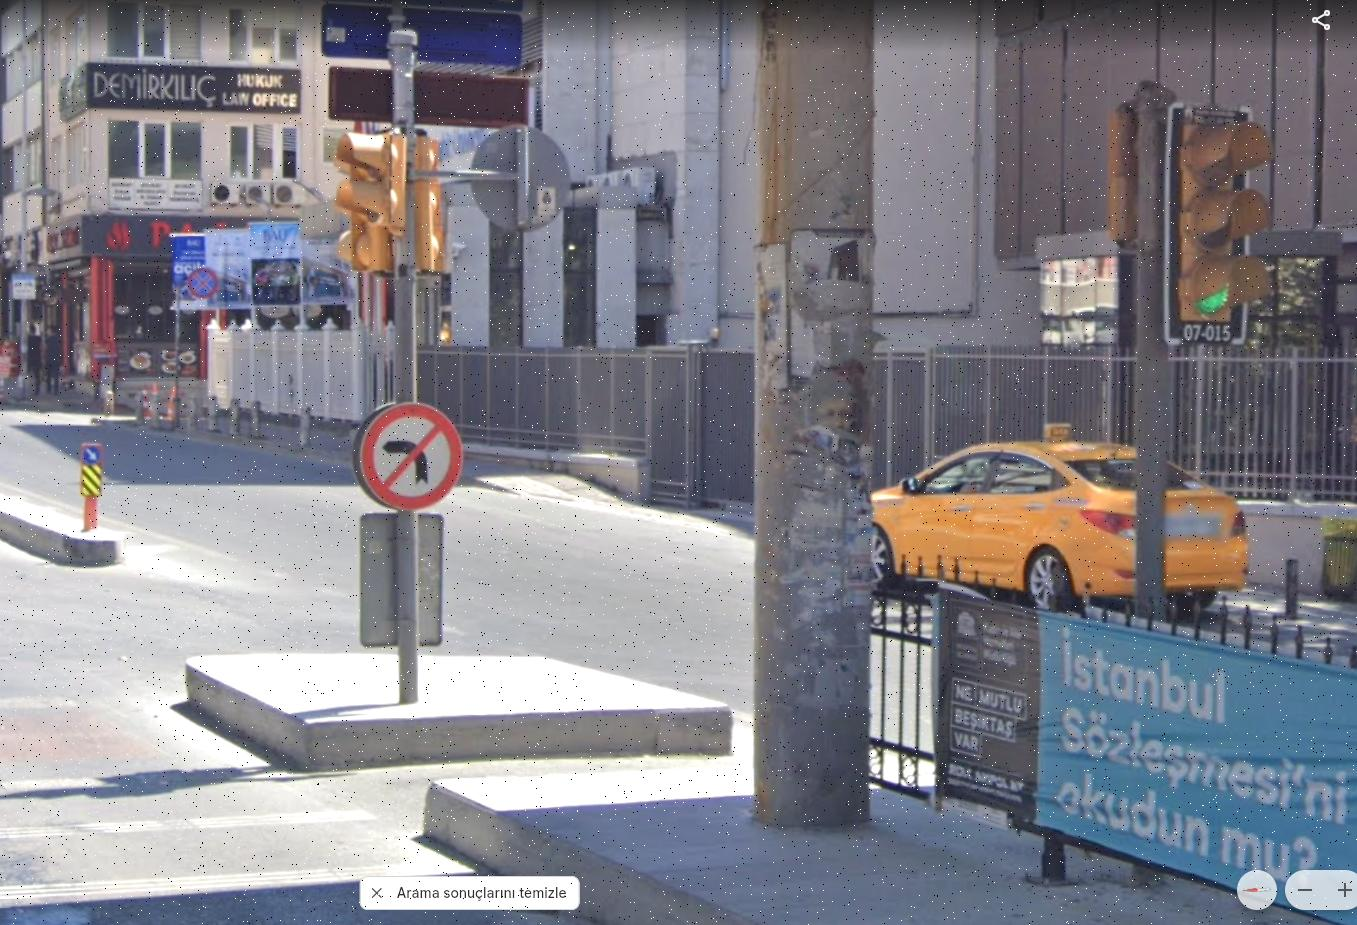greenlight: (1177, 96, 1270, 326)
leftturnsareforbidden: (361, 404, 459, 508)
